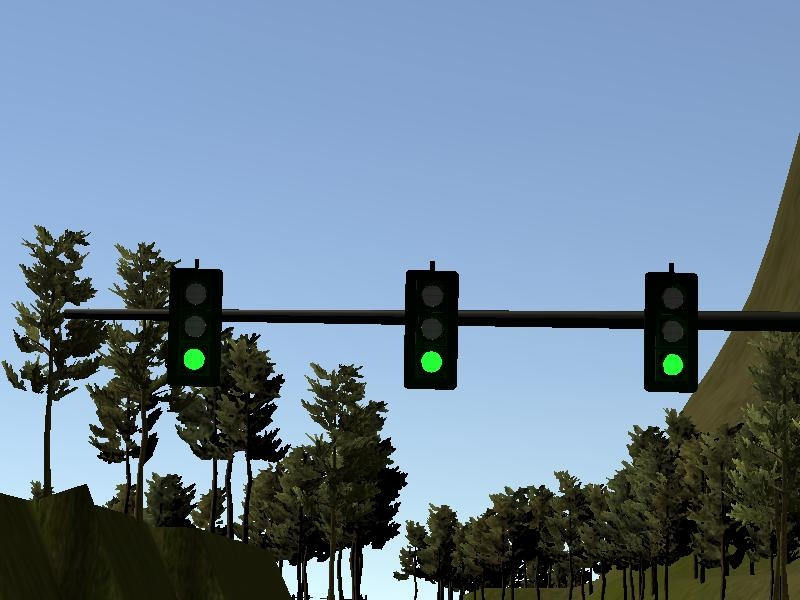green: (165, 263, 221, 387), (403, 268, 459, 392), (644, 273, 700, 397)
